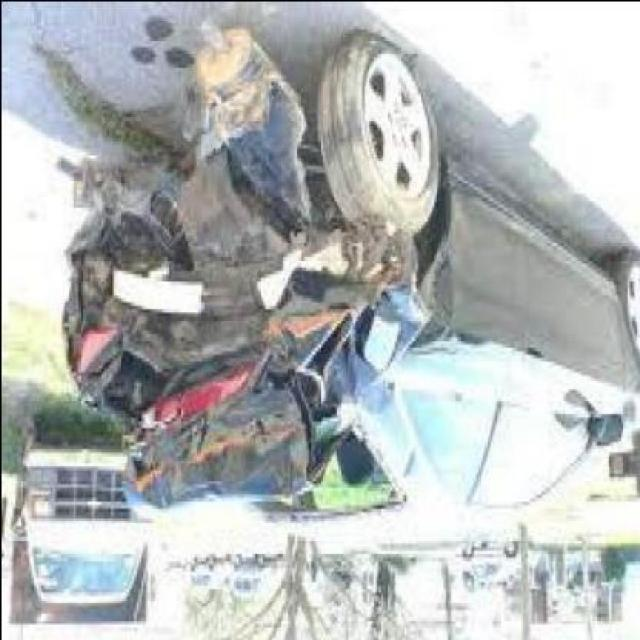damage: (58, 18, 432, 520)
